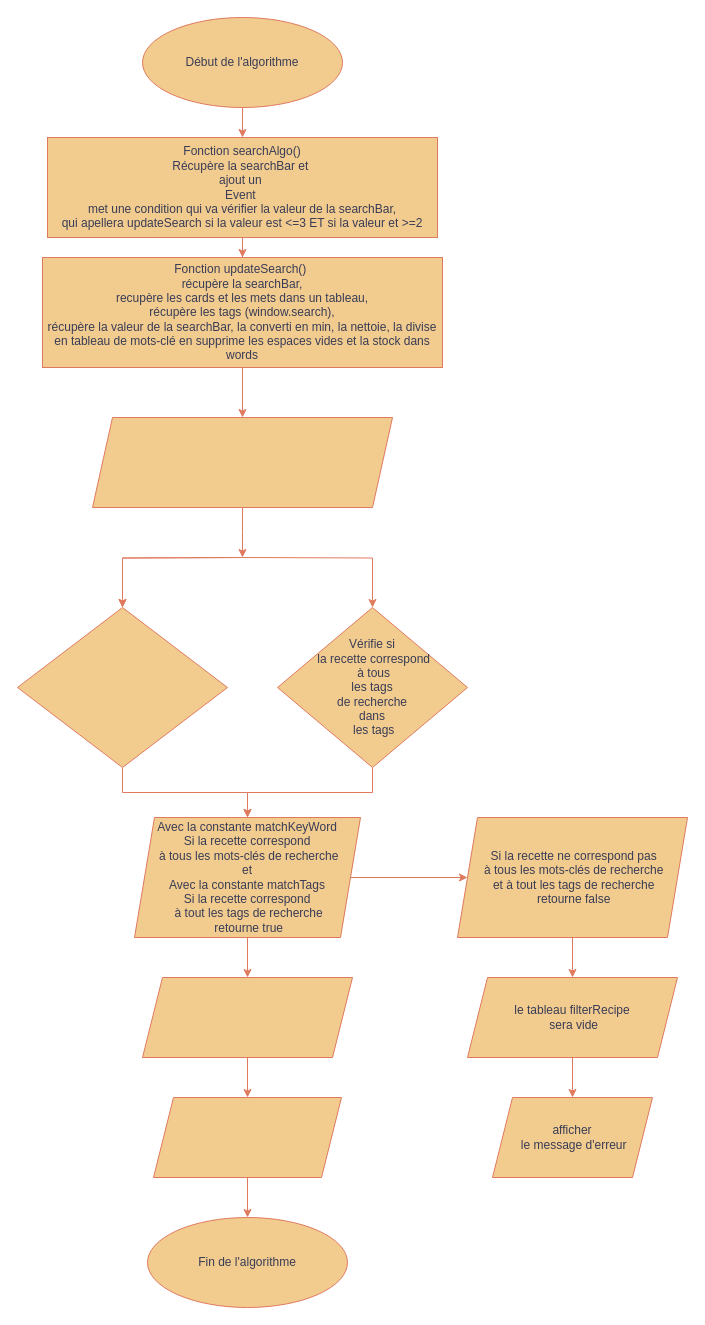
Image size: 705x1325. Some labels were removed from this diagram. Each missing label, with the centre of its shape:
affichera les cards: the point at 247,1137
Filtre les recettes correspondantes, avec filter() sur le tableau cards: the point at 242,462
le tableau filterRecipe sera rempli: the point at 247,1017
Vérifier si la recette correspond à tous les mots clés dans l'input searchBar: the point at 122,687
